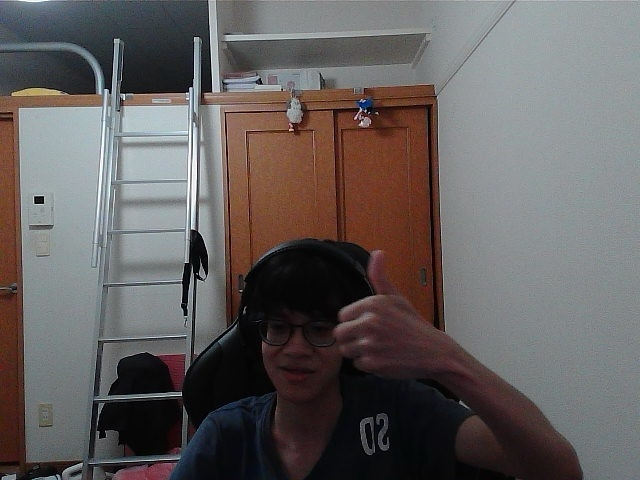thumb_up: (341, 258, 433, 366)
